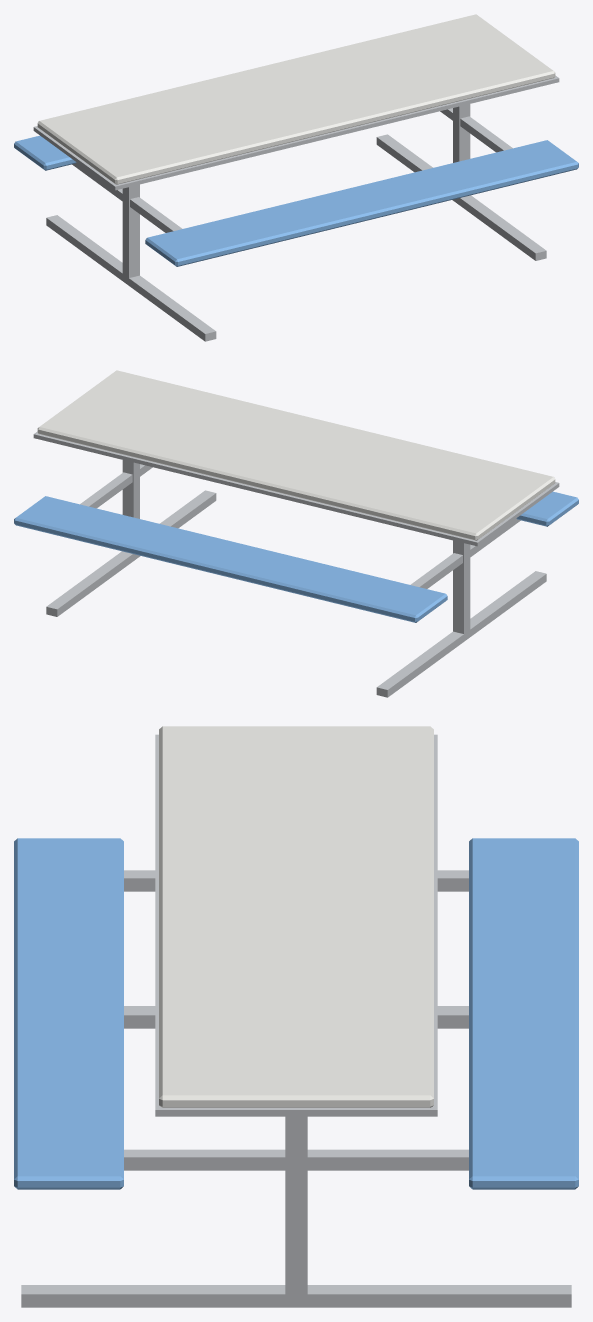
The model's file is cafeteria_table.glb.
3 views of the same model, one above another, from view 1: azimuth 30°, elevation 25°; view 2: azimuth 150°, elevation 25°; view 3: azimuth 270°, elevation 25° (orthographic). The views are drawn at different scales.
Parts seen in each view (by area): view 1: body; view 2: body; view 3: body.
Part boxes in pixels (left/top/right/bottom): body: left=14, top=14, right=578, bottom=341; body: left=14, top=370, right=578, bottom=697; body: left=14, top=726, right=578, bottom=1307.
Bounding box in the file's own units: 2.42 × 0.76 × 1.54.
